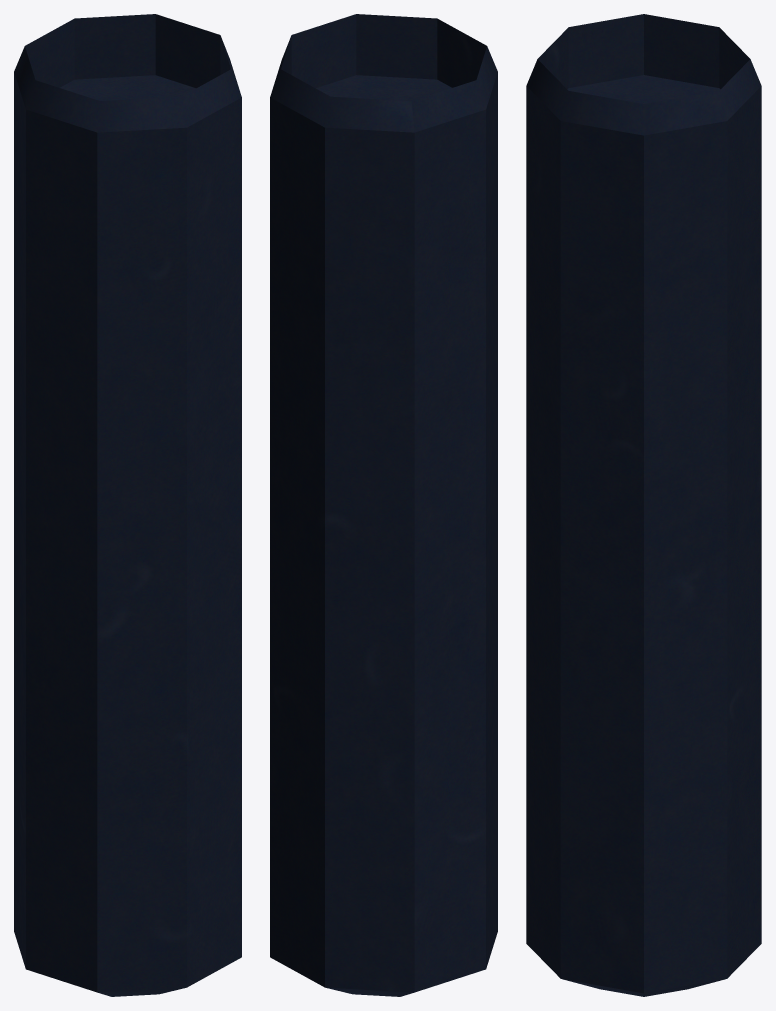
Rendered from Chimney.fbx.
3 views of the same model, side by side, from view 1: azimuth 30°, elevation 25°; view 2: azimuth 150°, elevation 25°; view 3: azimuth 270°, elevation 25° (orthographic).
Visible parts, largest first — view 1: Chimney; view 2: Chimney; view 3: Chimney.
Boxes of the visible parts, <box> form: Chimney: <box>14,14,241,996</box>; Chimney: <box>270,14,497,996</box>; Chimney: <box>526,14,761,996</box>.
Bounding box in the file's own units: 0.6772 × 2.89 × 0.6772.
Materials: 1 (1 with a texture image).
